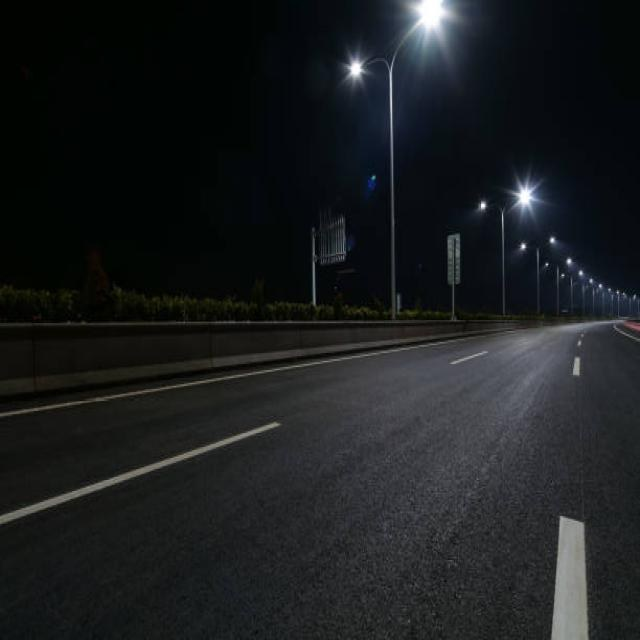acesa: (389, 0, 464, 72), (504, 169, 546, 214), (341, 51, 369, 82)
